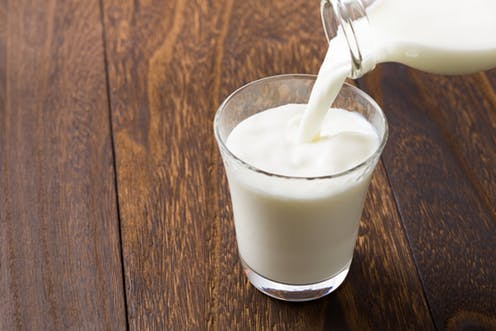glass of milk: (237, 101, 354, 294)
